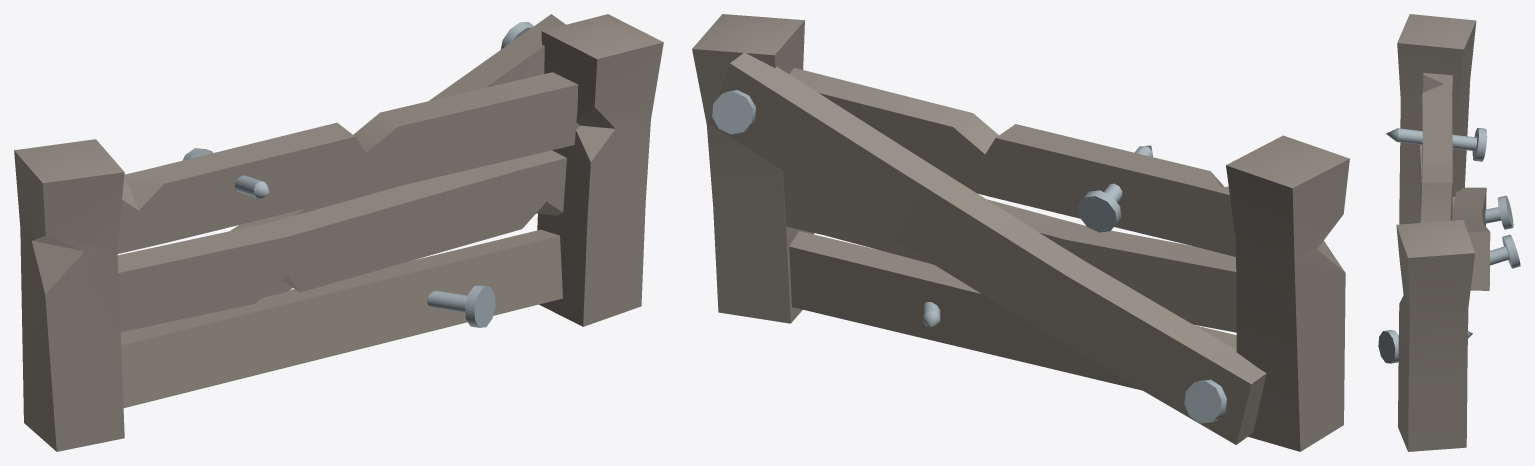
Rendered from barricade.fbx.
3 views of the same model, side by side, from view 1: azimuth 30°, elevation 25°; view 2: azimuth 150°, elevation 25°; view 3: azimuth 270°, elevation 25° (orthographic). The views are drawn at different scales.
Visible parts, largest first — view 1: barricade; view 2: barricade; view 3: barricade.
Boxes of the visible parts, x1,y1,x2,y2 form: barricade: (14, 14, 663, 451); barricade: (692, 14, 1349, 451); barricade: (1378, 14, 1520, 451).
Bounding box in the file's own units: 1.88 × 0.79 × 0.4779.
